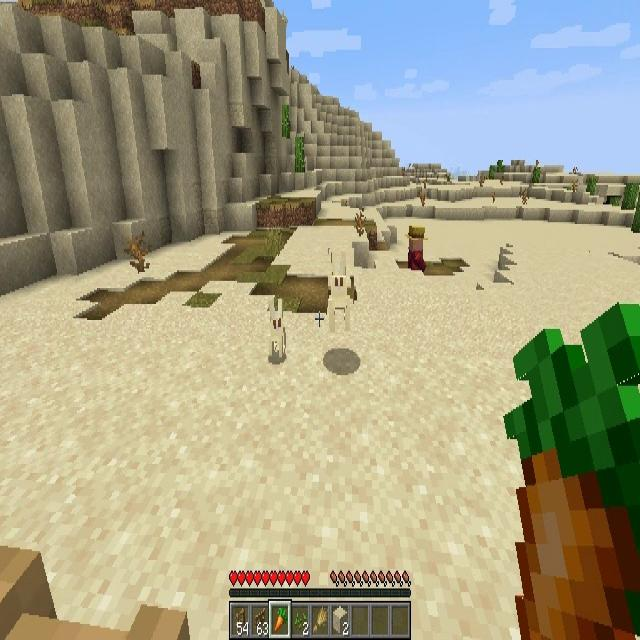people: (408, 227, 427, 269)
rabbit: (328, 248, 354, 339), (270, 296, 286, 361)
